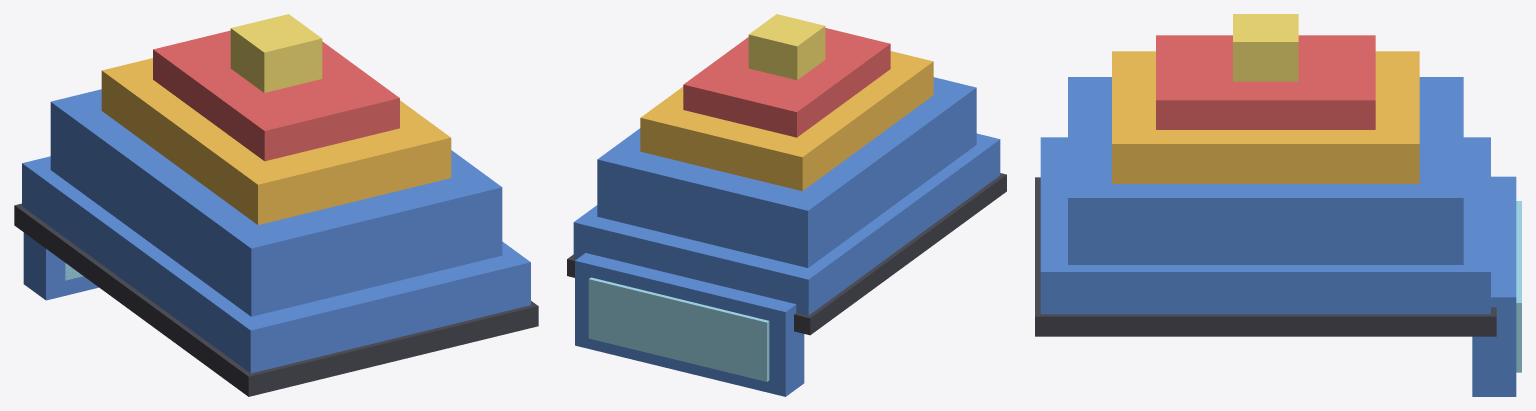
Rendered from gorro_esqui_oculos.glb.
The picture shows the model from 3 angles, left to right: view 1: azimuth 30°, elevation 25°; view 2: azimuth 150°, elevation 25°; view 3: azimuth 270°, elevation 25°; orthographic projection. The views are drawn at different scales.
Parts seen in each view (by area): view 1: gorro_esqui_oculos; view 2: gorro_esqui_oculos; view 3: gorro_esqui_oculos.
Part boxes in pixels (bbox=[...]): gorro_esqui_oculos: bbox=[14, 14, 538, 396]; gorro_esqui_oculos: bbox=[567, 14, 1006, 396]; gorro_esqui_oculos: bbox=[1035, 14, 1521, 396].
Size of the model in its own units: 0.6 by 0.62 by 0.886.
